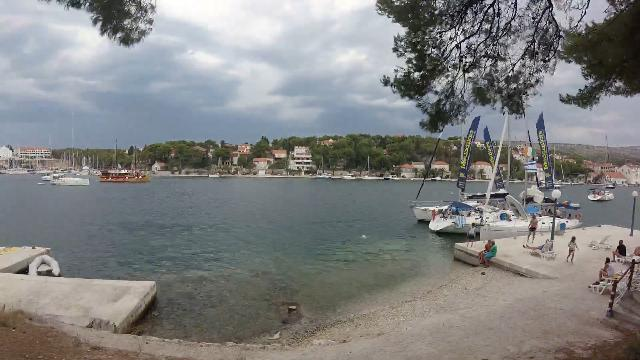Freighter: (93, 165, 155, 185)
Sailboat: (48, 172, 92, 188)
